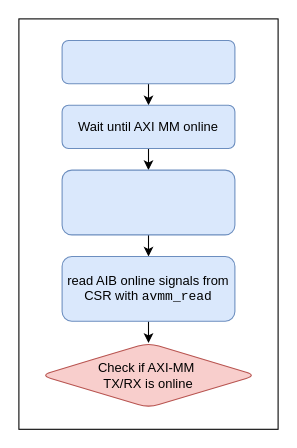
Image size: 297x448. Some labels were removed from this diagram. Here are the shapes that lost their labels. From the top down, the centre of each, then its label:
At (148,61): "Reset all the signals".
At (148,202): "write delay value in CSR with avmm_write".
